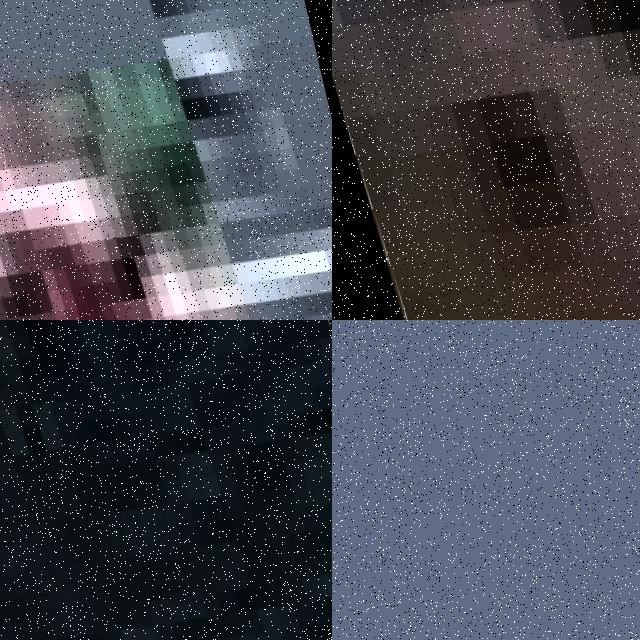drone: (0, 0, 332, 320), (0, 320, 332, 640), (332, 0, 640, 320)
